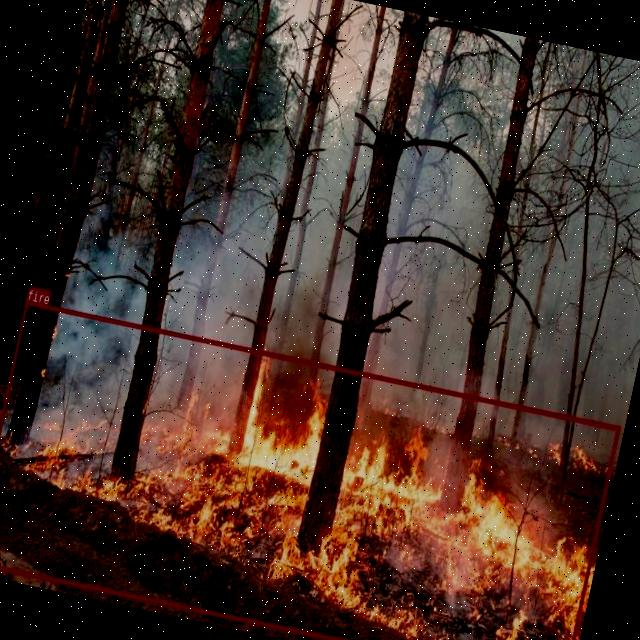fire: (0, 299, 619, 640)
